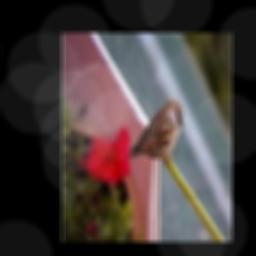Sparrow: (128, 99, 184, 167)
